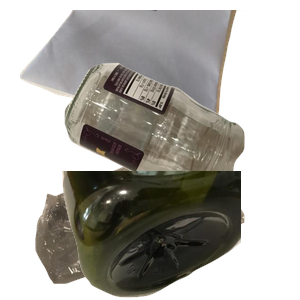glass: (62, 60, 300, 240)
paper: (17, 10, 254, 141)
plastic: (60, 171, 300, 300)
trash: (33, 145, 270, 300)
